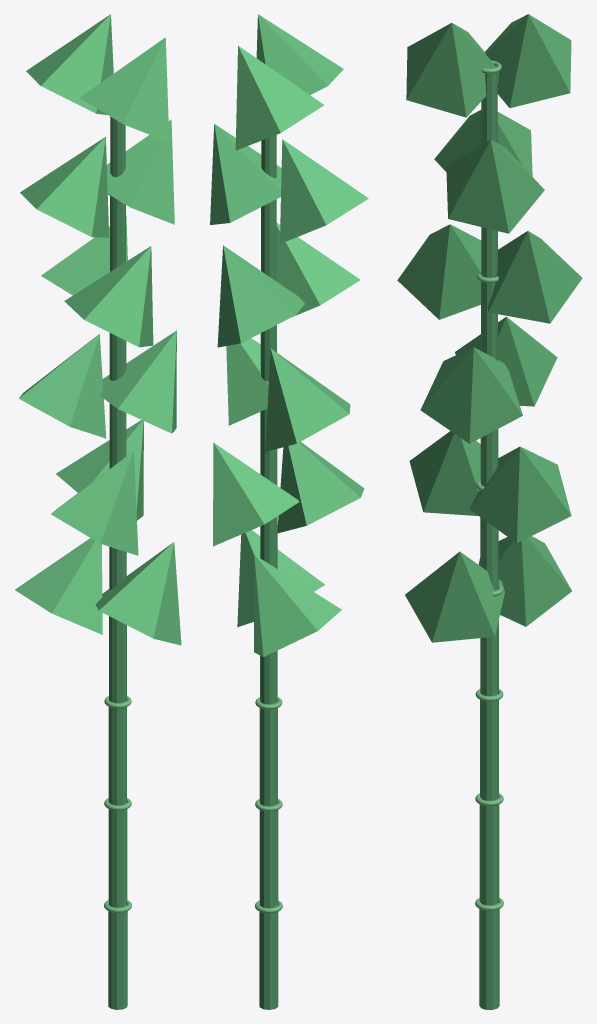
The model's file is bamboo.glb.
3 renders of one model, left to right at view 1: azimuth 30°, elevation 25°; view 2: azimuth 150°, elevation 25°; view 3: azimuth 270°, elevation 25°, orthographic. The views are drawn at different scales.
Visible parts, largest first — view 1: Bamboo_Stalk; view 2: Bamboo_Stalk; view 3: Bamboo_Stalk.
Part boxes in pixels (<box>): Bamboo_Stalk: <box>15,14,181,1009</box>; Bamboo_Stalk: <box>210,14,368,1009</box>; Bamboo_Stalk: <box>397,14,582,1009</box>.
Bounding box in the file's own units: 2.38 × 15.27 × 2.57.
